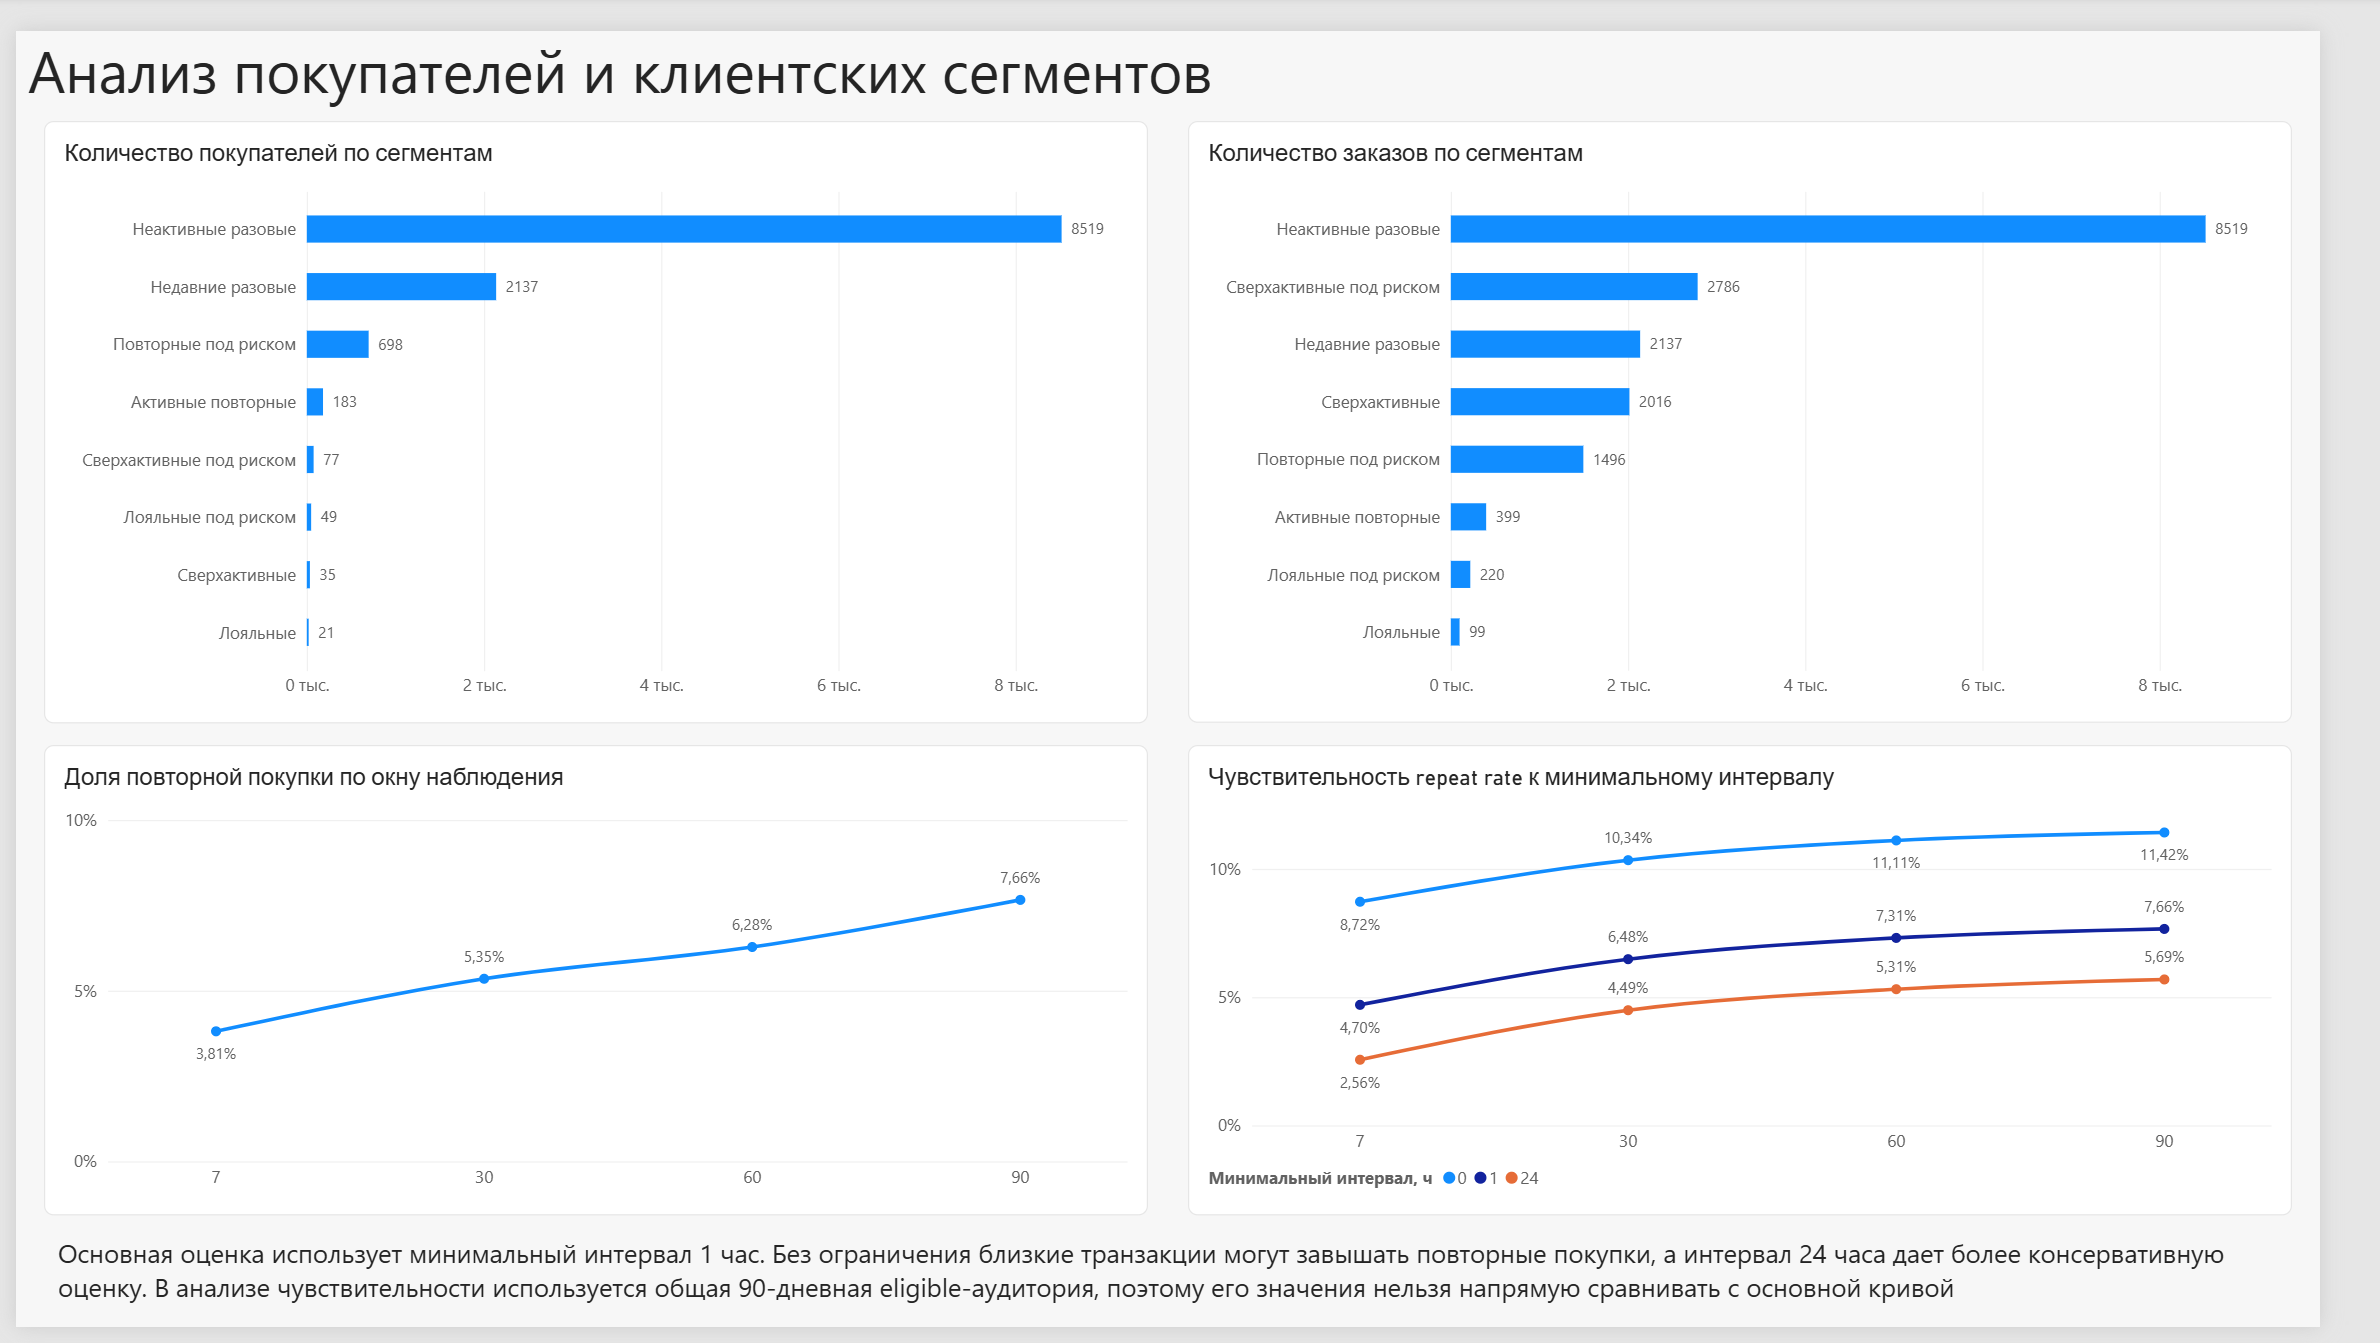

This screenshot's page, from the dashboard's own definition file:
{"tool":"powerbi","page":{"name":"Customers","canvas":[1920,1080],"ordinal":1},"visuals":[{"type":"textbox","box":[10,0,1130,162.5],"z":0},{"type":"clusteredBarChart","title":"Количество покупателей по сегментам","fields":{"Category":["Customer Segments.customer_segment"],"Y":["Customer Segments.Покупатели"]},"box":[22.7,92.7,920,484.5],"z":1000},{"type":"clusteredBarChart","title":"Количество заказов по сегментам","fields":{"Category":["Customer Segments.customer_segment"],"Y":["Customer Segments.Заказы"]},"box":[977.1,92.9,920,485.7],"z":2000},{"type":"lineChart","title":"Доля повторной покупки по окну наблюдения","fields":{"Category":["Repeat Purchase Metrics.window_days"],"Y":["Sum(Repeat Purchase Metrics.adjusted_repeat_rate)"]},"box":[23.3,595,920,392],"z":3000},{"type":"lineChart","title":"Чувствительность доли повторных покупок к минимальному интервалу","fields":{"Category":["Repeat Purchase Sensitivity.window_days"],"Series":["Repeat Purchase Sensitivity.cooldown_hours"],"Y":["Sum(Repeat Purchase Sensitivity.repeat_rate)"]},"box":[976.7,595,920,392],"z":4000},{"type":"textbox","box":[35,987.5,1862.5,92.5],"z":6000}]}

Visuals, with their boxes in screenshot pixels (x1, y1, x2, y2), scaled from the page's 1920x1080 canvas onto the 2380x1343 screenshot:
textbox: 12, 0, 1413, 202
"Количество покупателей по сегментам" clusteredBarChart: 28, 115, 1169, 718
"Количество заказов по сегментам" clusteredBarChart: 1211, 116, 2352, 719
"Доля повторной покупки по окну наблюдения" lineChart: 29, 740, 1169, 1227
"Чувствительность доли повторных покупок к минимальному интервалу" lineChart: 1211, 740, 2351, 1227
textbox: 43, 1228, 2352, 1342
